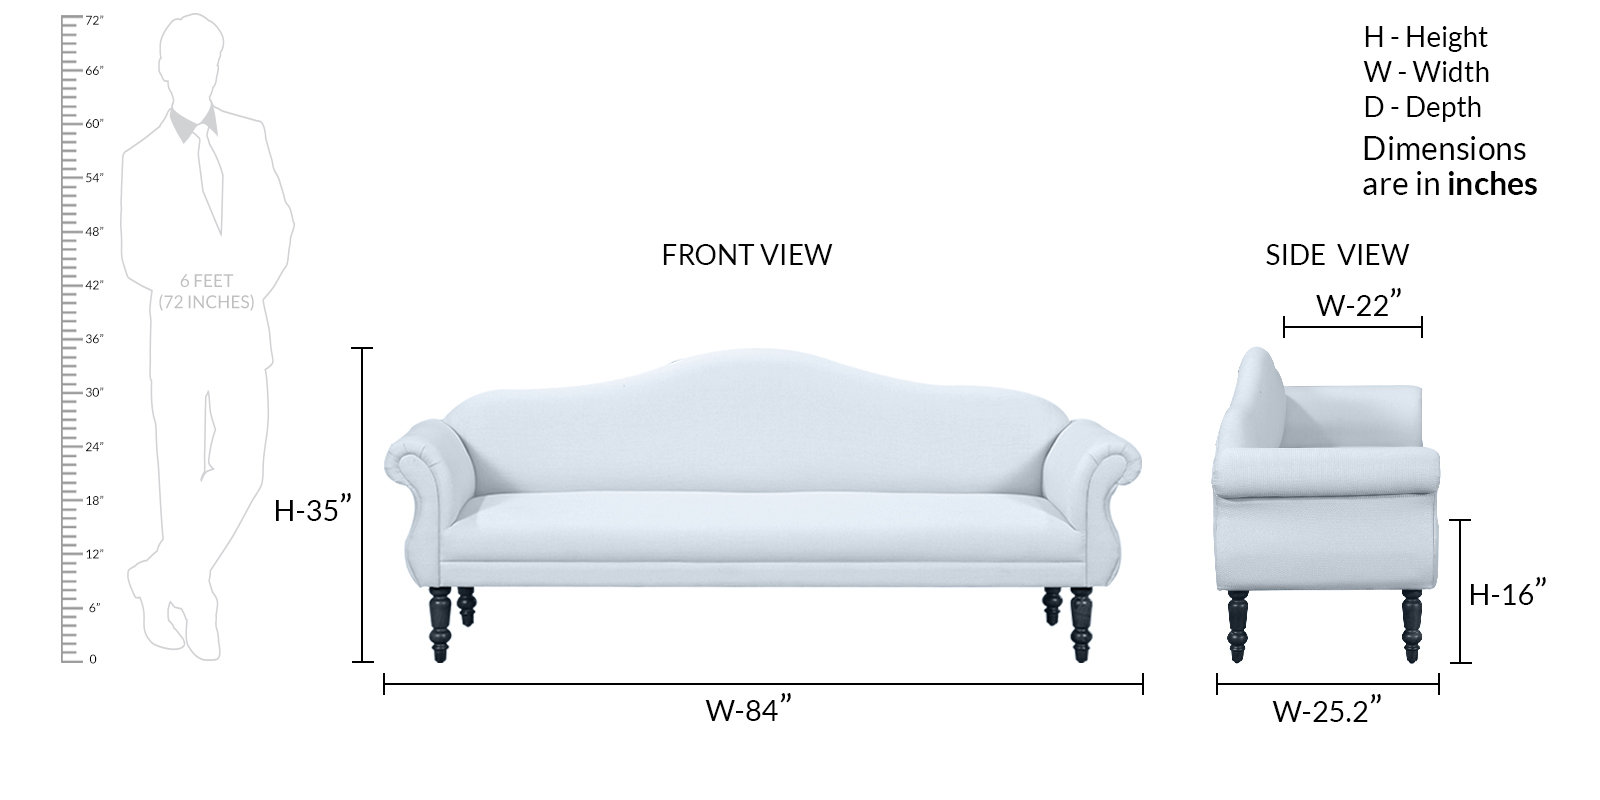Harleston Three Seater Sofa in Honey Oak Finish by Amberville: (389, 353, 1471, 672)
